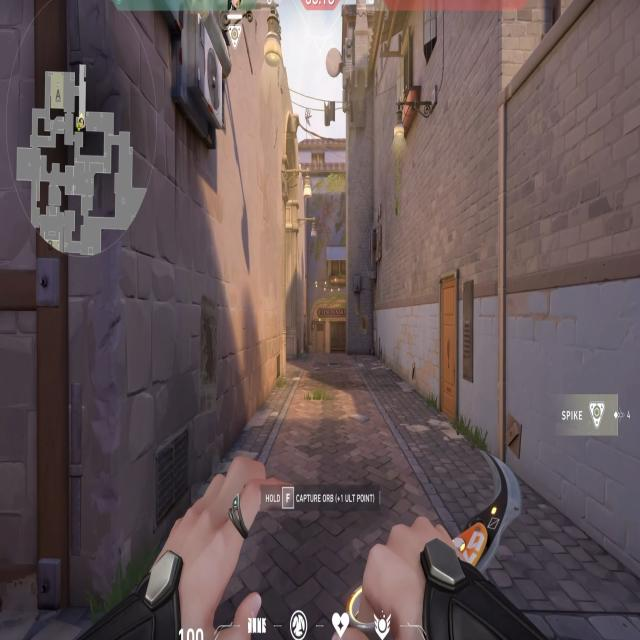Wine: (303, 281, 356, 370)
